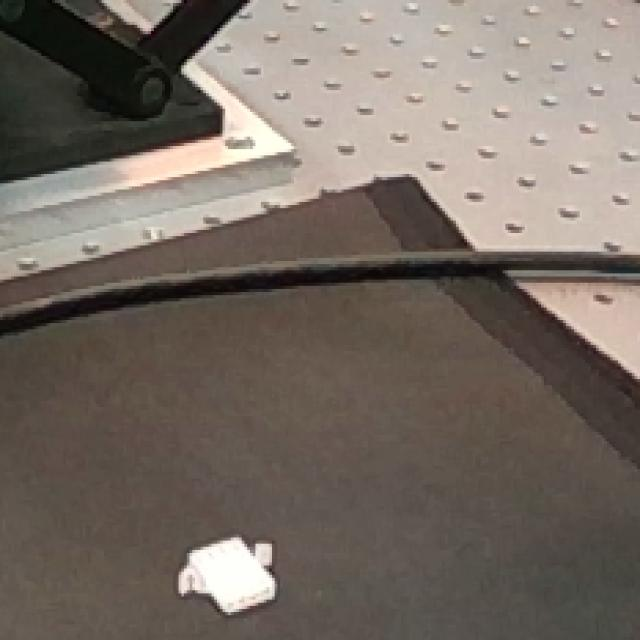Target: (165, 521, 296, 634)
